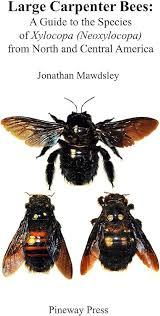Xylocopa: (6, 93, 149, 189), (83, 188, 160, 279), (3, 189, 77, 279)
